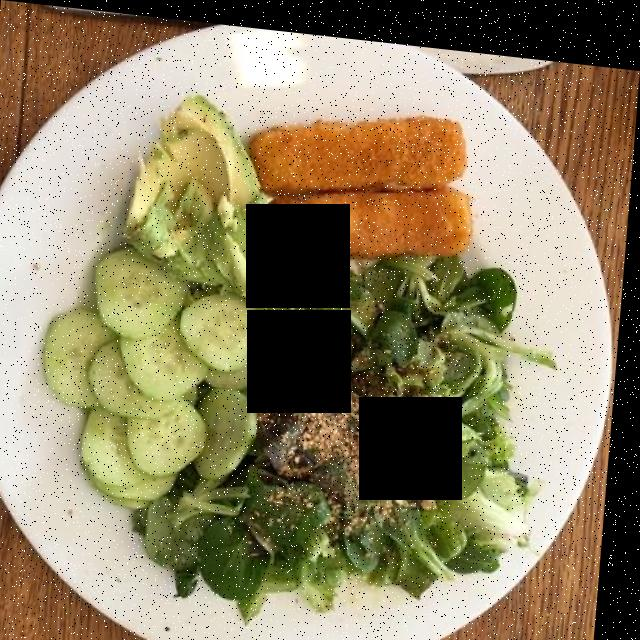avocado: (134, 84, 279, 282)
cucumber: (55, 248, 282, 510)
fish-fingers-breaded: (252, 108, 466, 188)
salad-lambs-ear: (133, 242, 528, 596)
sesame-seeds: (282, 341, 420, 517)
